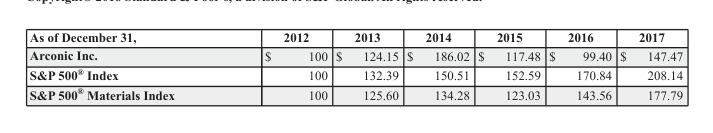table: (28, 29, 682, 101)
table column: (28, 29, 218, 101), (218, 29, 330, 101), (330, 29, 402, 101), (402, 29, 473, 101), (473, 29, 544, 101), (544, 29, 615, 101), (615, 29, 682, 101)
table column header: (28, 29, 682, 45)
table row: (28, 45, 682, 64), (28, 64, 682, 83), (28, 83, 682, 101), (28, 29, 682, 45)
